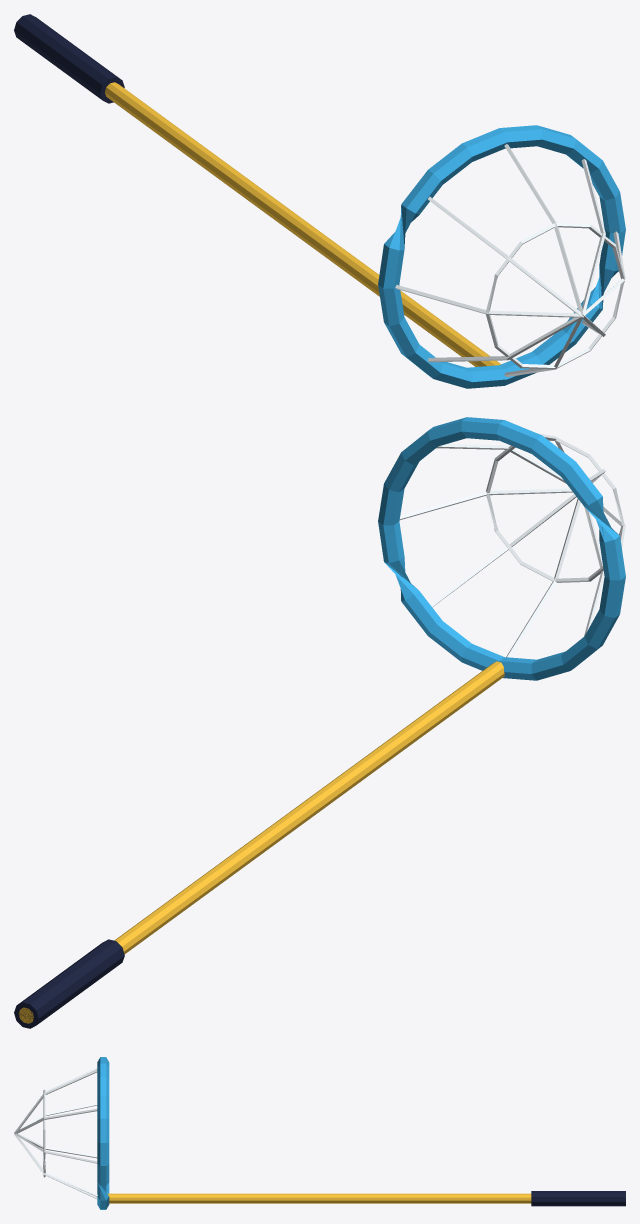
Rendered from T_net_pole.glb.
3 renders of one model, top to bottom at view 1: azimuth 30°, elevation 25°; view 2: azimuth 150°, elevation 25°; view 3: azimuth 270°, elevation 25°, orthographic. The views are drawn at different scales.
Visible parts, largest first — view 1: Hoop, Pole, Netting, Grip; view 2: Hoop, Pole, Netting, Grip; view 3: Pole, Netting, Hoop, Grip.
Boxes of the visible parts, x1=… form: Hoop: x1=378, y1=125, x2=625, y2=388; Pole: x1=105, y1=82, x2=500, y2=366; Netting: x1=395, y1=144, x2=625, y2=376; Grip: x1=14, y1=14, x2=124, y2=103; Hoop: x1=378, y1=417, x2=625, y2=680; Pole: x1=18, y1=661, x2=504, y2=1023; Netting: x1=399, y1=433, x2=625, y2=657; Grip: x1=14, y1=939, x2=124, y2=1028; Pole: x1=107, y1=1193, x2=531, y2=1203; Netting: x1=14, y1=1068, x2=97, y2=1198; Hoop: x1=97, y1=1057, x2=109, y2=1209; Grip: x1=531, y1=1191, x2=625, y2=1206.
Size of the model in its own units: 0.4712 by 0.4784 by 1.87.
